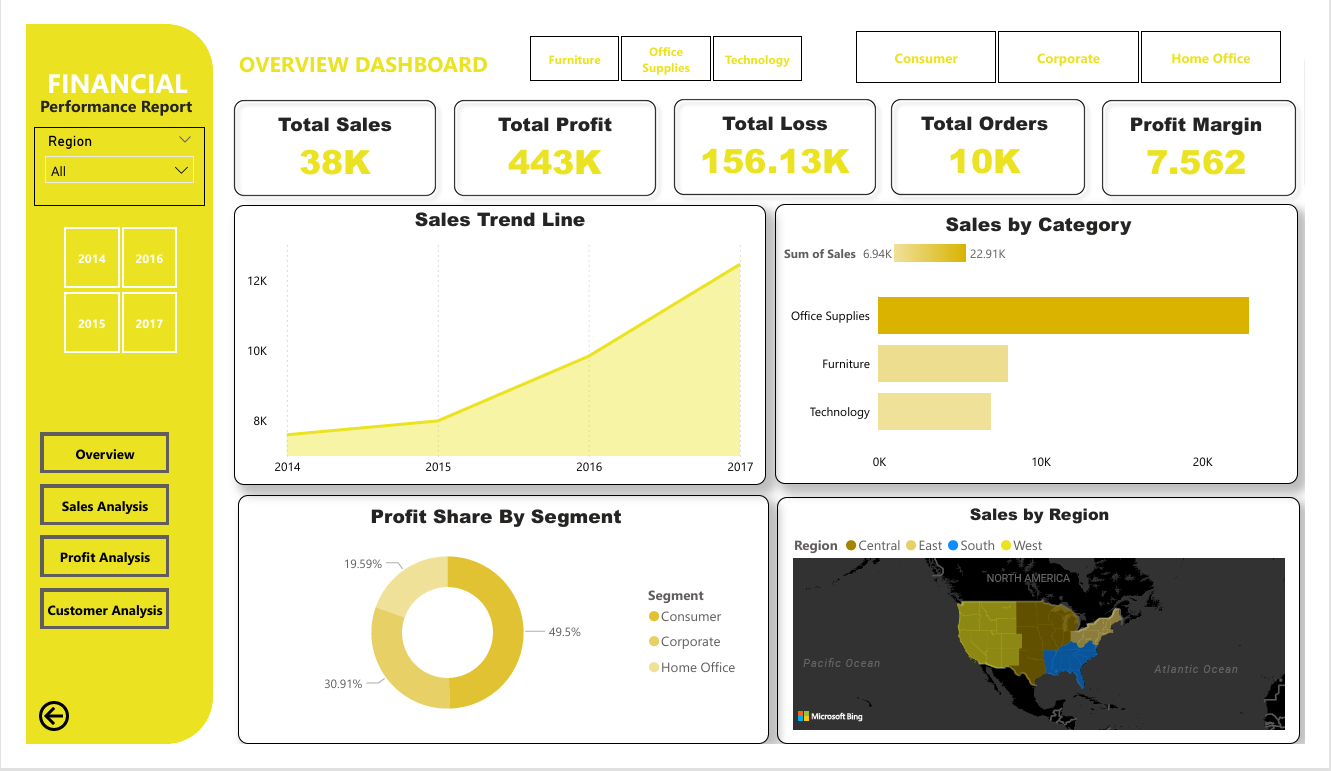

What the dashboard file says about the page in this screenshot:
{"tool":"powerbi","page":{"name":"Overview","canvas":[1280,720],"ordinal":0},"visuals":[{"type":"shape","box":[1,0,186.7,719.8],"z":0},{"type":"textbox","box":[16.5,35,154.7,49.6],"z":1000},{"type":"textbox","box":[9.7,66.1,173.1,37],"z":2000},{"type":"shape","box":[640,66.1,219.9,113.8],"z":2500,"group":"g3"},{"type":"shape","box":[856.9,66.1,212,113.8],"z":2500,"group":"g4"},{"type":"shape","box":[200.4,67.1,220,113.8],"z":2500,"group":"g1"},{"type":"shape","box":[420.2,67.1,219.9,113.8],"z":2500,"group":"g2"},{"type":"shape","box":[1068,67.1,212,113.8],"z":2500,"group":"g5"},{"type":"group","id":"g1","title":"Group 1","box":[200.4,67.1,219.8,113.8],"z":3000},{"type":"card","title":"Total Orders","fields":{"Values":["CountNonNull(Sample - Superstore.Order ID)"]},"box":[857.9,85.4,203.4,75.9],"z":3000,"group":"g4"},{"type":"card","title":"Total Loss","fields":{"Values":["Sample - Superstore.Total Loss"]},"box":[640,85.6,219.9,75.9],"z":3000,"group":"g3"},{"type":"card","title":"Profit Margin","fields":{"Values":["Sample - Superstore.Profit Margin %"]},"box":[1068.7,86.4,204.3,75.9],"z":3000,"group":"g5"},{"type":"card","title":"Total Sales","fields":{"Values":["Sum(Sample - Superstore.Sales)"]},"box":[200.4,86.6,220,75.9],"z":3000,"group":"g1"},{"type":"card","title":"Total Profit","fields":{"Values":["Sample - Superstore.Total Profit"]},"box":[420.2,86.6,219.9,75.9],"z":3000,"group":"g2"},{"type":"group","id":"g2","title":"Group 1","box":[420.2,67.1,219.8,113.8],"z":4000},{"type":"shape","box":[749.9,179.9,523.3,280.1],"z":5000},{"type":"group","id":"g3","title":"Group 1","box":[640,66.1,219.8,113.8],"z":6000},{"type":"group","id":"g4","title":"Group 1","box":[856.9,66.1,219.8,113.8],"z":7000},{"type":"group","id":"g5","title":"Group 1","box":[1068,67.1,212,113.8],"z":8000},{"type":"textbox","box":[209.1,20.4,269.4,46.7],"z":9000},{"type":"shape","box":[209.1,180.9,532,280.1],"z":9000,"group":"g6"},{"type":"lineChart","title":"Sales Trend Line","fields":{"Category":["Sample - Superstore.Order Date.Variation.Date Hierarchy.Year"],"Y":["Sum(Sample - Superstore.Sales)"]},"box":[216.6,180.9,516,280.1],"z":10000,"group":"g6"},{"type":"barChart","title":"Sales by Category","fields":{"Y":["Sum(Sample - Superstore.Sales)"],"Category":["Sample - Superstore.Category"]},"box":[753.8,185.8,519.4,270.4],"z":10000},{"type":"shape","box":[213,470.8,531.1,249],"z":11000},{"type":"donutChart","title":"Profit Share By Segment","fields":{"Y":["Sample - Superstore.Total Profit"],"Category":["Sample - Superstore.Segment"]},"box":[216.9,477.6,507.7,234.4],"z":12000},{"type":"group","id":"g6","title":"Group 2","box":[209.1,180.9,532,280.1],"z":13000},{"type":"shape","box":[751.9,472.7,523.3,247.1],"z":14000},{"type":"filledMap","title":"Sales by Region","fields":{"Series":["Sample - Superstore.Region"],"Category":["Sample - Superstore.State"]},"box":[763.5,477.6,501.9,234.4],"z":15000},{"type":"slicer","fields":{"Values":["Sample - Superstore.Region"]},"box":[8.8,103.1,171.2,78.8],"z":16000},{"type":"slicer","fields":{"Values":["Sample - Superstore.Category"]},"box":[478.5,4.9,322.9,59.3],"z":17000},{"type":"slicer","fields":{"Values":["Sample - Superstore.Segment"]},"box":[805.3,0,474.7,66.1],"z":18000},{"type":"slicer","fields":{"Values":["Sample - Superstore.Order Date.Variation.Date Hierarchy.Year"]},"box":[12.6,195.5,163.4,140.1],"z":19000},{"type":"actionButton","box":[16.2,460.6,128.3,40.4],"z":20000},{"type":"actionButton","box":[16.2,409.1,128.3,40.4],"z":21000},{"type":"actionButton","box":[16.2,512.1,128.3,40.4],"z":22000},{"type":"actionButton","box":[16.2,564.6,128.3,40.4],"z":23000},{"type":"actionButton","box":[8.8,672.1,100.2,39.9],"z":24000}]}

Visuals, with their boxes in screenshot pixels (x1, y1, x2, y2), scaled from the page's 1280x720 canvas onto the 1331x771 screenshot:
shape: x1=1, y1=0, x2=195, y2=770
textbox: x1=17, y1=37, x2=178, y2=91
textbox: x1=10, y1=71, x2=190, y2=110
shape: x1=666, y1=71, x2=894, y2=193
shape: x1=891, y1=71, x2=1111, y2=193
shape: x1=208, y1=72, x2=437, y2=194
shape: x1=437, y1=72, x2=666, y2=194
shape: x1=1111, y1=72, x2=1330, y2=194
"Group 1" group: x1=208, y1=72, x2=437, y2=194
"Total Orders" card: x1=892, y1=91, x2=1104, y2=173
"Total Loss" card: x1=666, y1=92, x2=894, y2=173
"Profit Margin" card: x1=1111, y1=93, x2=1324, y2=174
"Total Sales" card: x1=208, y1=93, x2=437, y2=174
"Total Profit" card: x1=437, y1=93, x2=666, y2=174
"Group 1" group: x1=437, y1=72, x2=666, y2=194
shape: x1=780, y1=193, x2=1324, y2=493
"Group 1" group: x1=666, y1=71, x2=894, y2=193
"Group 1" group: x1=891, y1=71, x2=1120, y2=193
"Group 1" group: x1=1111, y1=72, x2=1330, y2=194
textbox: x1=217, y1=22, x2=498, y2=72
shape: x1=217, y1=194, x2=771, y2=494
"Sales Trend Line" lineChart: x1=225, y1=194, x2=762, y2=494
"Sales by Category" barChart: x1=784, y1=199, x2=1324, y2=489
shape: x1=221, y1=504, x2=774, y2=770
"Profit Share By Segment" donutChart: x1=226, y1=511, x2=753, y2=762
"Group 2" group: x1=217, y1=194, x2=771, y2=494
shape: x1=782, y1=506, x2=1326, y2=770
"Sales by Region" filledMap: x1=794, y1=511, x2=1316, y2=762
slicer - Sample - Superstore.Region: x1=9, y1=110, x2=187, y2=195
slicer - Sample - Superstore.Category: x1=498, y1=5, x2=833, y2=69
slicer - Sample - Superstore.Segment: x1=837, y1=0, x2=1330, y2=71
slicer - Sample - Superstore.Order Date.Variation.Date Hierarchy.Year: x1=13, y1=209, x2=183, y2=359
actionButton: x1=17, y1=493, x2=150, y2=536
actionButton: x1=17, y1=438, x2=150, y2=481
actionButton: x1=17, y1=548, x2=150, y2=592
actionButton: x1=17, y1=605, x2=150, y2=648
actionButton: x1=9, y1=720, x2=113, y2=762
